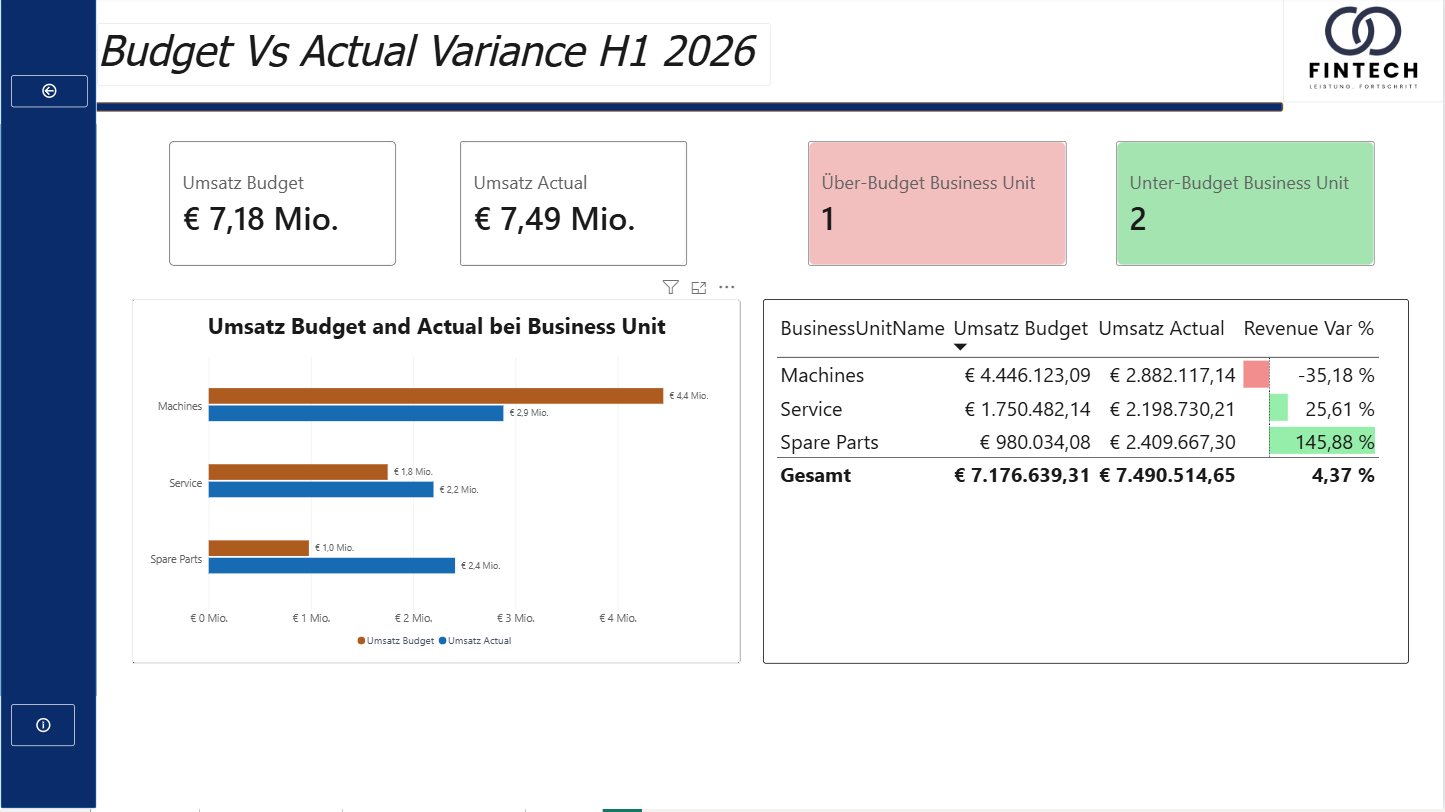

This screenshot's page, from the dashboard's own definition file:
{"tool":"powerbi","page":{"name":"Budget Vs Actual Variance","canvas":[1920,1080],"ordinal":2},"visuals":[{"type":"shape","box":[87.8,139.7,1618.7,13.3],"z":0},{"type":"textbox","box":[129,34.6,896.5,83.8],"z":1000},{"type":"shape","box":[0,0,129,1080],"z":2000},{"type":"image","box":[1706.5,0,214.1,139.7],"z":3000},{"type":"cardVisual","fields":{"Data":["A_Berechnete.Umsatz Budget"]},"box":[224.8,191.5,301.9,166.3],"z":4000},{"type":"cardVisual","fields":{"Data":["A_Berechnete.Umsatz Actual"]},"box":[611.8,191.5,301.9,166.3],"z":5000},{"type":"actionButton","box":[14.6,103.7,102.4,42.6],"z":6000},{"type":"clusteredBarChart","title":"Umsatz Budget and Actual bei Business Unit","fields":{"Category":["DimBusinessUnit.BusinessUnitName"],"Y":["A_Berechnete.Umsatz Budget","A_Berechnete.Umsatz Actual"]},"box":[175.6,401.7,808.7,485.5],"z":7000},{"type":"tableEx","fields":{"Values":["DimBusinessUnit.BusinessUnitName","A_Berechnete.Umsatz Budget","A_Berechnete.Umsatz Actual","A_Berechnete.Revenue Var %"]},"box":[1014.8,401.7,859.2,485.5],"z":8000},{"type":"cardVisual","fields":{"Data":["A_Berechnete.Over-Budget Cost Centers"]},"box":[1074.7,191.5,344.5,166.3],"z":9000},{"type":"cardVisual","fields":{"Data":["select","A_Berechnete.Under-Budget Cost Centers"]},"box":[1484.3,191.5,344.5,166.3],"z":10000},{"type":"actionButton","box":[14.7,940.1,85.5,56],"z":12000}]}

Visuals, with their boxes on the page's 1920x1080 design canvas (x1, y1, x2, y2). These are canvas units, not pixel positions in the 1445x812 screenshot, which may show the page scaled, cropped or inside an application window:
shape: region(88, 140, 1706, 153)
textbox: region(129, 35, 1026, 118)
shape: region(0, 0, 129, 1080)
image: region(1706, 0, 1921, 140)
cardVisual - A_Berechnete.Umsatz Budget: region(225, 192, 527, 358)
cardVisual - A_Berechnete.Umsatz Actual: region(612, 192, 914, 358)
actionButton: region(15, 104, 117, 146)
"Umsatz Budget and Actual bei Business Unit" clusteredBarChart: region(176, 402, 984, 887)
tableEx - DimBusinessUnit.BusinessUnitName x A_Berechnete.Umsatz Budget: region(1015, 402, 1874, 887)
cardVisual - A_Berechnete.Over-Budget Cost Centers: region(1075, 192, 1419, 358)
cardVisual - select x A_Berechnete.Under-Budget Cost Centers: region(1484, 192, 1829, 358)
actionButton: region(15, 940, 100, 996)
